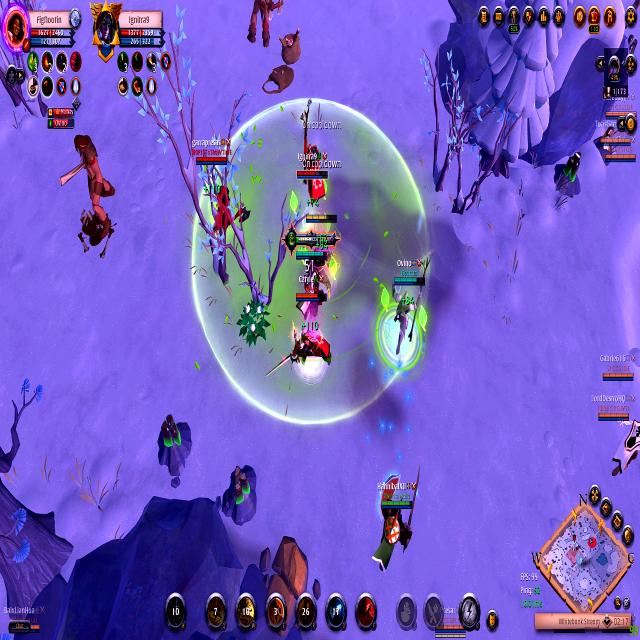hide: (232, 288, 272, 365)
ore: (54, 114, 121, 249), (238, 0, 290, 63)
player: (151, 391, 197, 489), (216, 455, 264, 538), (552, 150, 588, 206)
red: (364, 454, 424, 582), (190, 133, 250, 255), (382, 252, 434, 372), (277, 276, 335, 380), (586, 392, 640, 484), (292, 140, 336, 206), (295, 203, 343, 245), (596, 351, 640, 388), (429, 603, 470, 640), (590, 119, 638, 149), (600, 86, 640, 122), (292, 237, 328, 267), (600, 144, 638, 168)
tree: (258, 518, 320, 638)
